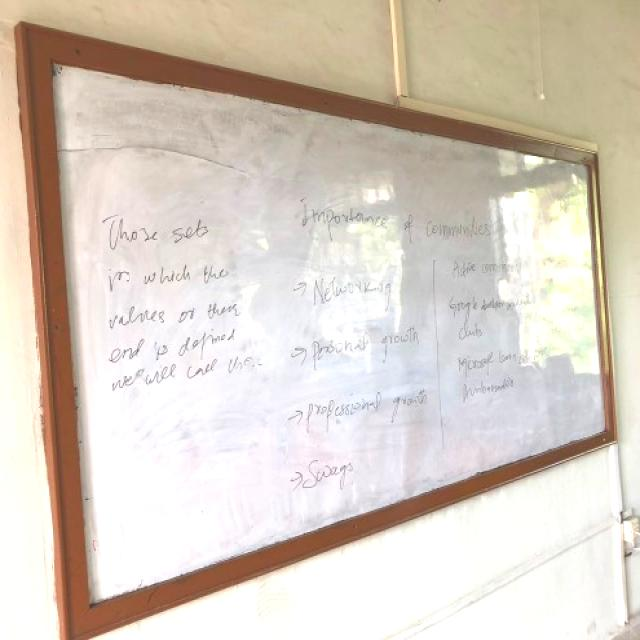White-board: (42, 34, 614, 625)
